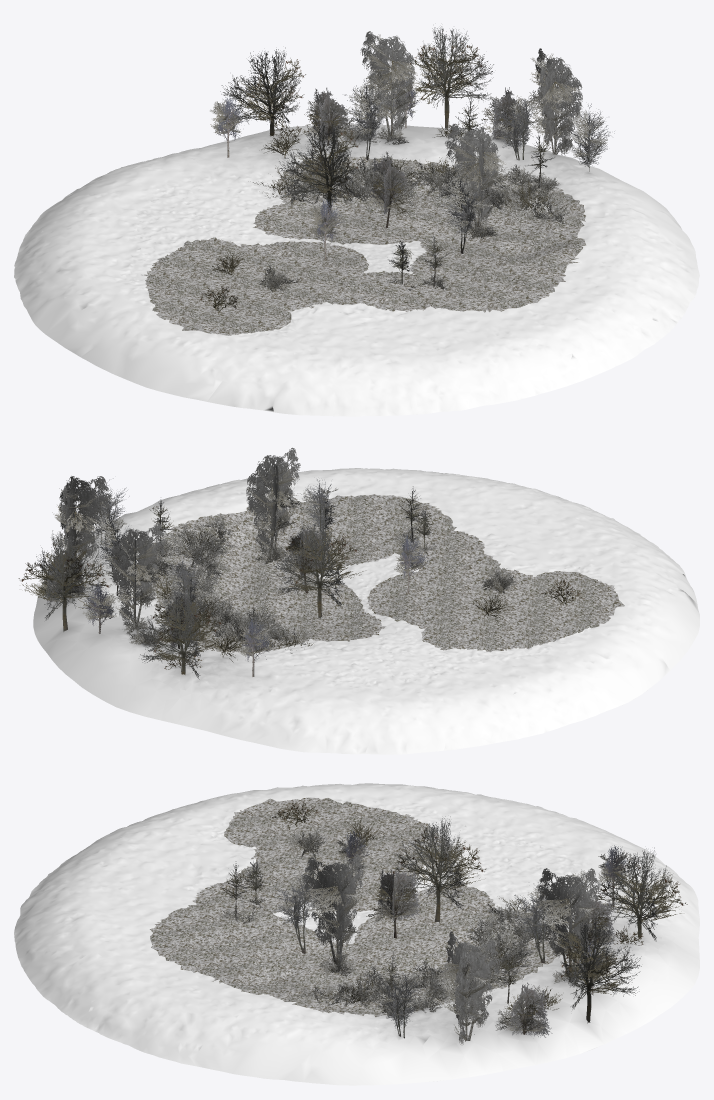
The model's file is WINTER_TREE_PACK.fbx.
3 views of the same model, one above another, from view 1: azimuth 30°, elevation 25°; view 2: azimuth 150°, elevation 25°; view 3: azimuth 270°, elevation 25° (orthographic). The views are drawn at different scales.
Parts seen in each view (by area): view 1: Snow, Snow_Melting, Winter_Trees_Planes.002, Winter_Trees_Branches.008, Winter_Trees_Branches.004, Winter_Trees_Branches.003, Winter_Trees_Planes, Winter_Trees_Planes.006, Winter_Trees_Planes.005, Winter_Trees_Branches.009, Winter_Trees_Branches.016, Winter_Trees_Branches.017 (+6 smaller); view 2: Snow, Snow_Melting, Winter_Trees_Planes.002, Winter_Trees_Branches.008, Winter_Trees_Branches.004, Winter_Trees_Planes.005, Winter_Trees_Branches.003, Winter_Trees_Planes, Winter_Trees_Planes.006, Winter_Trees_Branches.017, Winter_Trees_Branches.016, Winter_Trees_Branches.009 (+7 smaller); view 3: Snow, Snow_Melting, Winter_Trees_Planes.002, Winter_Trees_Branches.008, Winter_Trees_Planes.005, Winter_Trees_Planes, Winter_Trees_Branches.003, Winter_Trees_Branches.004, Winter_Trees_Planes.006, Winter_Trees_Branches.017, Winter_Trees_Planes.008, Winter_Trees_Branches.016 (+7 smaller).
Part boxes in pixels (x1=…): Snow: x1=14, y1=123, x2=699, y2=416; Snow_Melting: x1=144, y1=153, x2=585, y2=335; Winter_Trees_Planes.002: x1=215, y1=26, x2=614, y2=187; Winter_Trees_Branches.008: x1=210, y1=34, x2=607, y2=193; Winter_Trees_Branches.004: x1=412, y1=157, x2=570, y2=226; Winter_Trees_Branches.003: x1=253, y1=151, x2=446, y2=209; Winter_Trees_Planes: x1=535, y1=48, x2=582, y2=155; Winter_Trees_Planes.006: x1=279, y1=121, x2=354, y2=217; Winter_Trees_Planes.005: x1=445, y1=123, x2=498, y2=229; Winter_Trees_Branches.009: x1=522, y1=53, x2=580, y2=153; Winter_Trees_Branches.016: x1=451, y1=126, x2=505, y2=223; Winter_Trees_Branches.017: x1=290, y1=129, x2=360, y2=198; Snow: x1=33, y1=468, x2=699, y2=754; Snow_Melting: x1=149, y1=494, x2=624, y2=652; Winter_Trees_Planes.002: x1=36, y1=478, x2=274, y2=679; Winter_Trees_Branches.008: x1=18, y1=493, x2=273, y2=671; Winter_Trees_Branches.004: x1=152, y1=517, x2=241, y2=601; Winter_Trees_Planes.005: x1=246, y1=447, x2=300, y2=554; Winter_Trees_Branches.003: x1=166, y1=589, x2=313, y2=653; Winter_Trees_Planes: x1=59, y1=476, x2=111, y2=569; Winter_Trees_Planes.006: x1=273, y1=521, x2=344, y2=618; Winter_Trees_Branches.017: x1=284, y1=526, x2=363, y2=591; Winter_Trees_Branches.016: x1=247, y1=462, x2=301, y2=549; Winter_Trees_Branches.009: x1=52, y1=486, x2=105, y2=554; Snow: x1=14, y1=783, x2=699, y2=1085; Snow_Melting: x1=150, y1=797, x2=567, y2=1017; Winter_Trees_Planes.002: x1=378, y1=845, x2=673, y2=1038; Winter_Trees_Branches.008: x1=376, y1=852, x2=687, y2=1031; Winter_Trees_Planes.005: x1=301, y1=854, x2=364, y2=965; Winter_Trees_Planes: x1=446, y1=931, x2=501, y2=1044; Winter_Trees_Branches.003: x1=467, y1=898, x2=554, y2=983; Winter_Trees_Branches.004: x1=296, y1=960, x2=498, y2=1008; Winter_Trees_Planes.006: x1=392, y1=816, x2=465, y2=922; Winter_Trees_Branches.017: x1=388, y1=828, x2=486, y2=890; Winter_Trees_Planes.008: x1=378, y1=867, x2=422, y2=938; Winter_Trees_Branches.016: x1=304, y1=856, x2=362, y2=960.
Bounding box in the file's own units: 9013 × 1972 × 8825.
